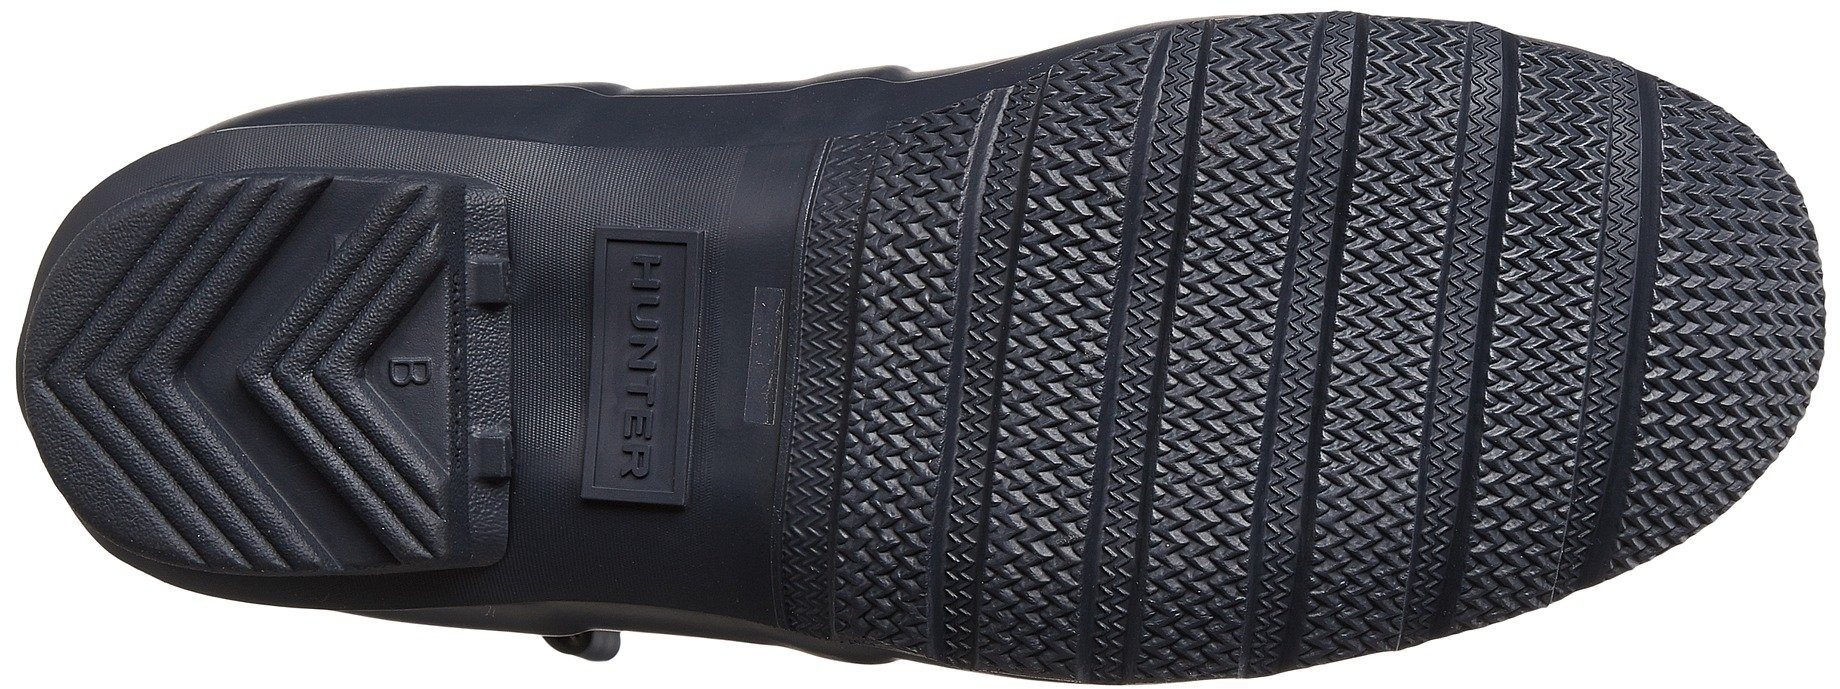chevron: (1437, 112, 1753, 434), (1118, 58, 1430, 350), (823, 139, 1107, 427), (1119, 362, 1413, 619), (81, 258, 361, 488), (836, 445, 1047, 651), (872, 434, 1071, 637), (1429, 448, 1564, 592)
quad: (542, 227, 772, 498)
text: (606, 335, 688, 416), (602, 249, 685, 320), (601, 425, 674, 487), (387, 343, 445, 407)
